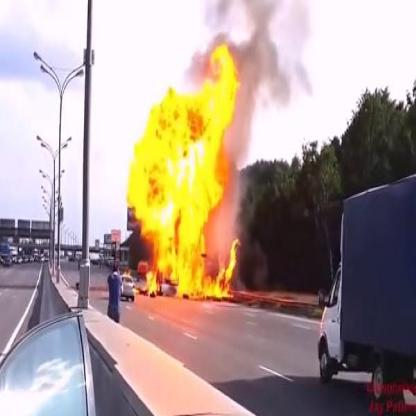fire: (124, 31, 246, 301)
